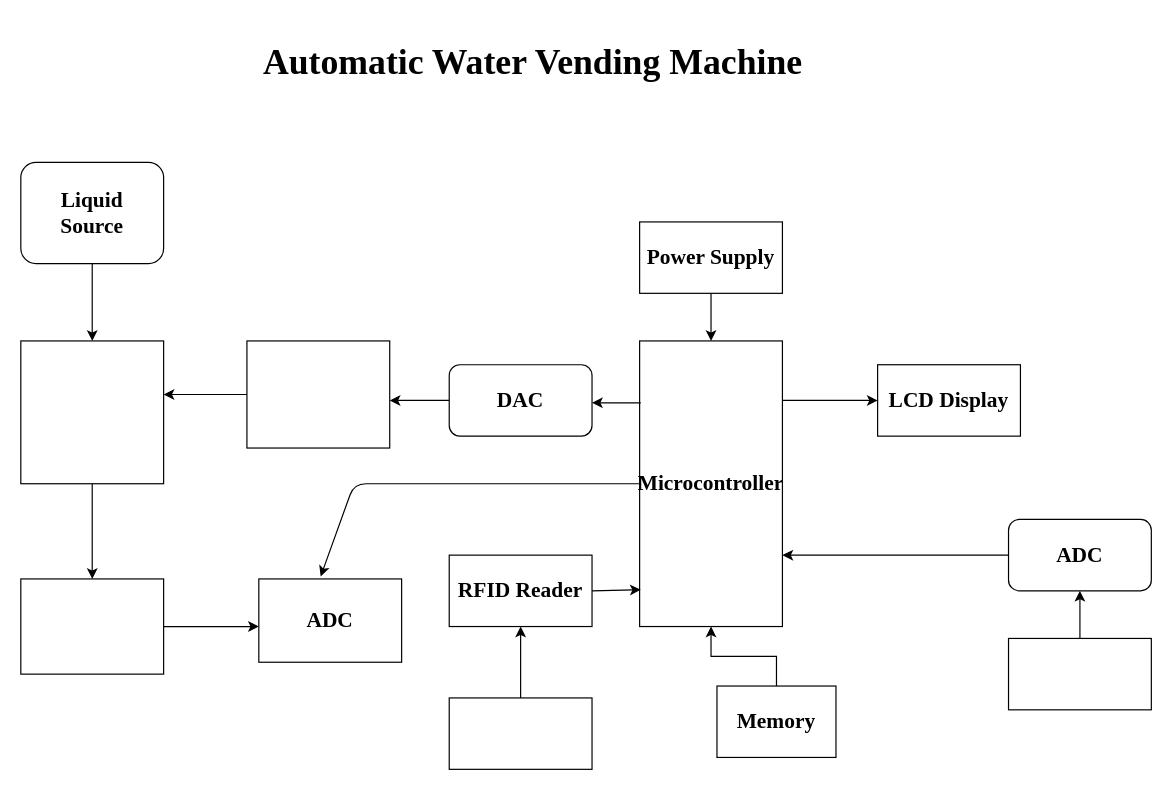
This 1172x790 diagram has some shape labels left out. The shapes that lost their labels are listed below. From the top down, each one's centre as x and y in pixels, then its label:
At point 92,412: "Solenoid Valve".
At point 318,394: "Realy".
At point 92,626: "Flow sensor".
At point 1079,673: "Coin sensor".
At point 520,733: "RFID TAG".
